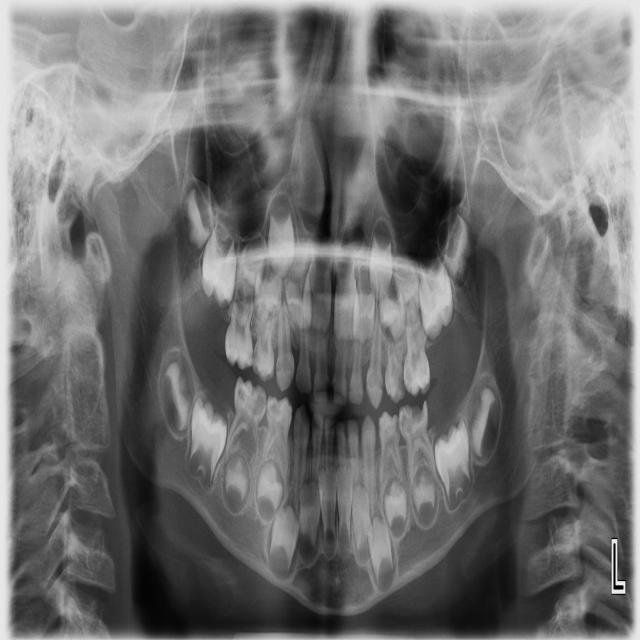mandibula: (95, 184, 571, 613)
